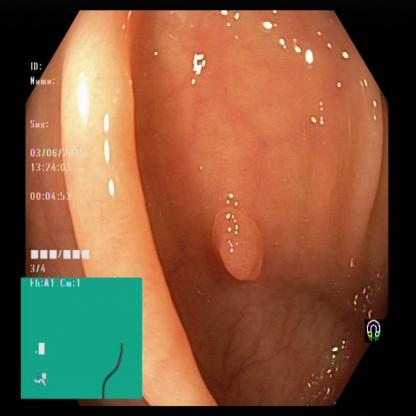Labels: (22, 56, 103, 278), (21, 278, 144, 400), (361, 313, 392, 351)
Polyps: (209, 202, 275, 289)
